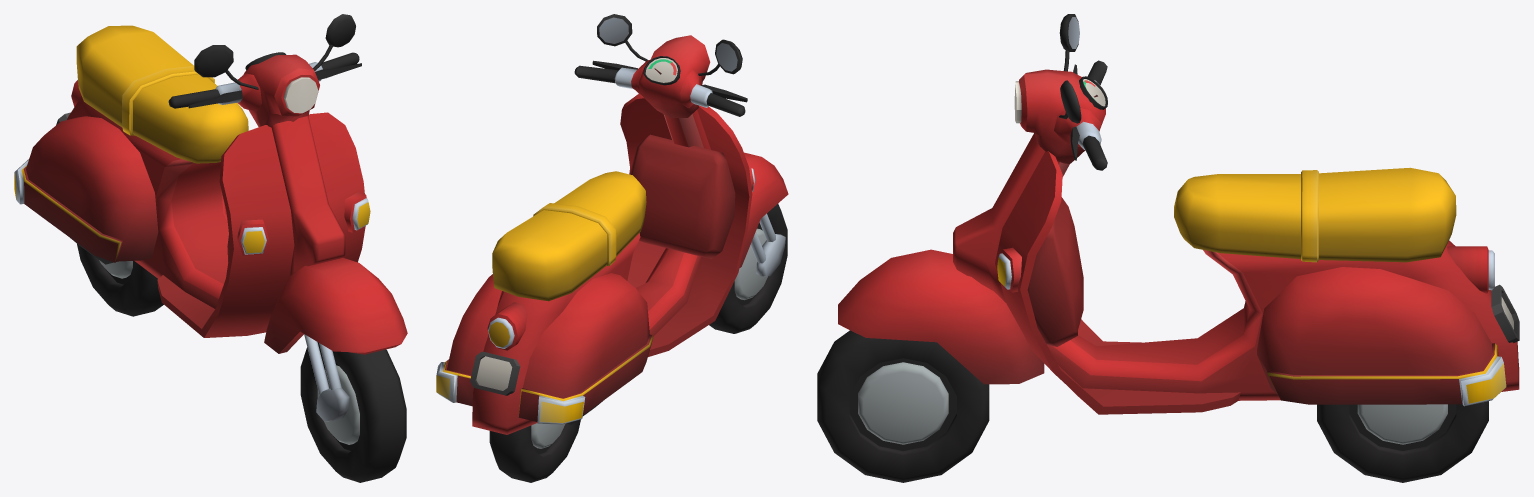
The model's file is Scooter2.fbx.
The picture shows the model from 3 angles, left to right: view 1: azimuth 30°, elevation 25°; view 2: azimuth 150°, elevation 25°; view 3: azimuth 270°, elevation 25°; orthographic projection. The views are drawn at different scales.
Parts seen in each view (by area): view 1: PP_Scooter_01; view 2: PP_Scooter_01; view 3: PP_Scooter_01.
Boxes of the visible parts, bbox=[...] form: PP_Scooter_01: bbox=[14, 14, 407, 482]; PP_Scooter_01: bbox=[436, 14, 788, 482]; PP_Scooter_01: bbox=[817, 14, 1519, 482].
Bounding box in the file's own units: 73.46 × 145 × 216.
Materials: 1 (1 with a texture image).
